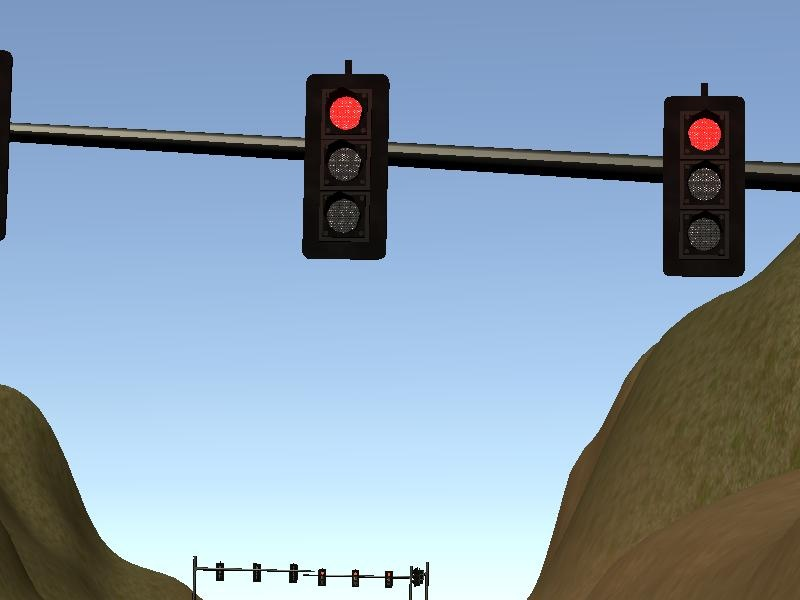RED: (302, 72, 387, 261), (662, 95, 747, 279)
